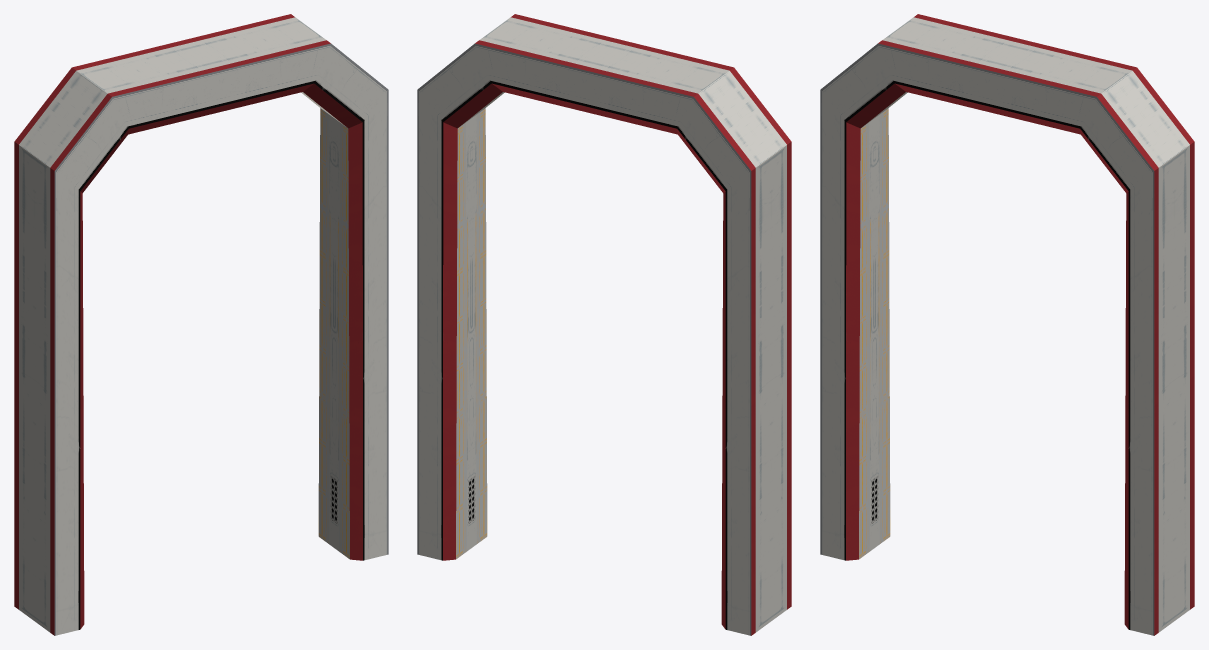
File: G_Env_Arch_DoorFrame_01_Luxury.fbx
The picture shows the model from 3 angles, left to right: view 1: azimuth 30°, elevation 25°; view 2: azimuth 150°, elevation 25°; view 3: azimuth 330°, elevation 25°; orthographic projection.
Visible parts, largest first — view 1: G_Env_Arch_DoorFrame_01_Luxury; view 2: G_Env_Arch_DoorFrame_01_Luxury; view 3: G_Env_Arch_DoorFrame_01_Luxury.
Boxes of the visible parts, x1,y1,x2,y2 form: G_Env_Arch_DoorFrame_01_Luxury: (14,14,388,635); G_Env_Arch_DoorFrame_01_Luxury: (417,14,791,635); G_Env_Arch_DoorFrame_01_Luxury: (820,14,1194,635).
Size of the model in its own units: 500 by 751 by 104.
